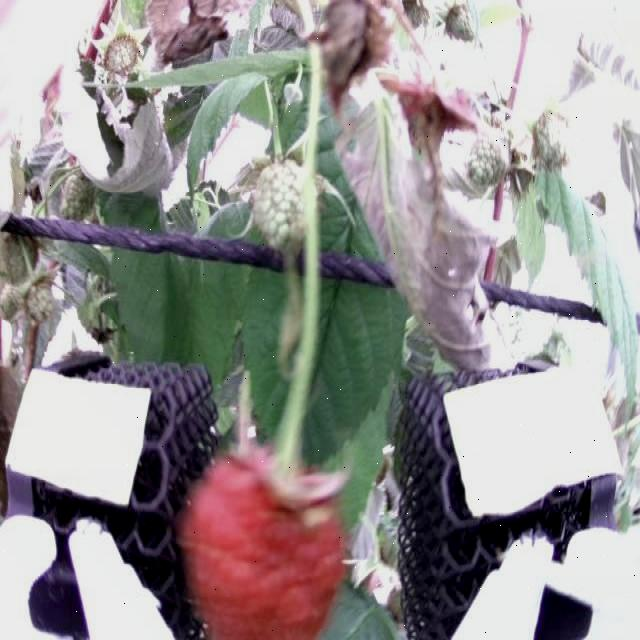Riped berries: (172, 436, 351, 640)
